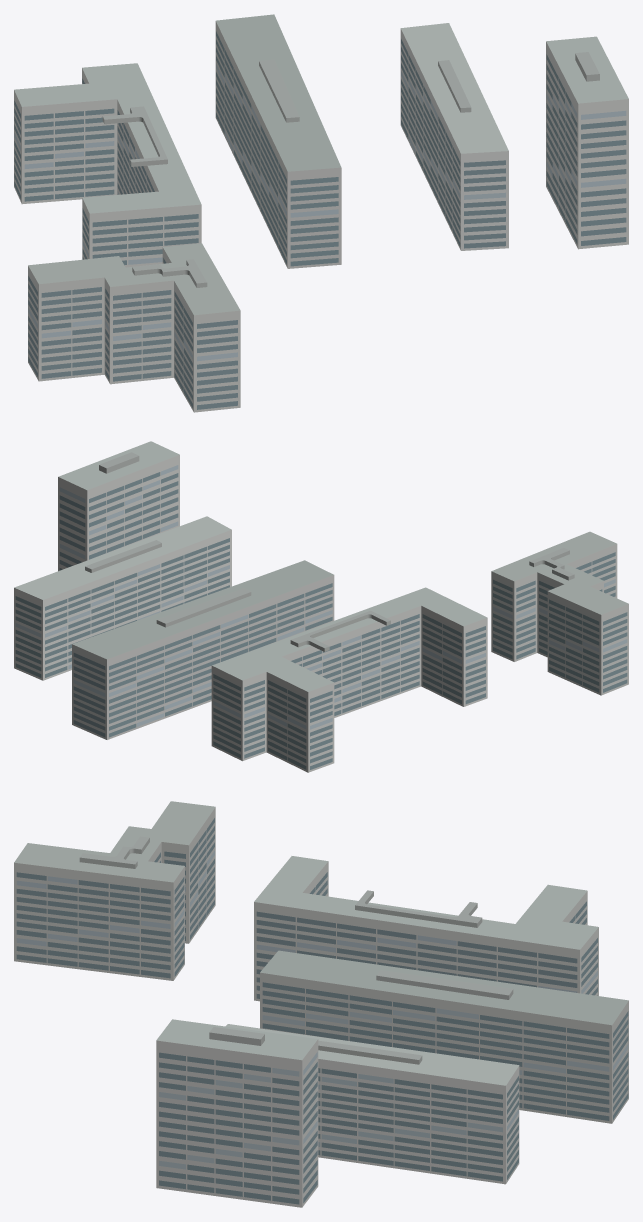
Rendered from apt-a15880905.glb.
3 views of the same model, one above another, from view 1: azimuth 30°, elevation 25°; view 2: azimuth 150°, elevation 25°; view 3: azimuth 270°, elevation 25° (orthographic). The views are drawn at different scales.
Parts seen in each view (by area): view 1: apt-a15880905; view 2: apt-a15880905; view 3: apt-a15880905.
Boxes of the visible parts, x1,y1,x2,y2 form: apt-a15880905: [14, 14, 628, 412]; apt-a15880905: [14, 441, 628, 772]; apt-a15880905: [14, 801, 628, 1207].
Size of the model in its own units: 205 by 47.81 by 173.
